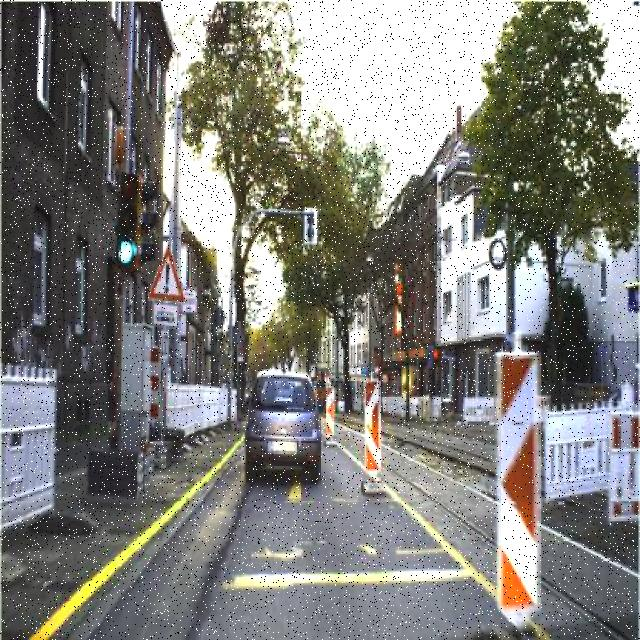Zakaz zatrzymywania sie: (238, 343, 245, 359)
